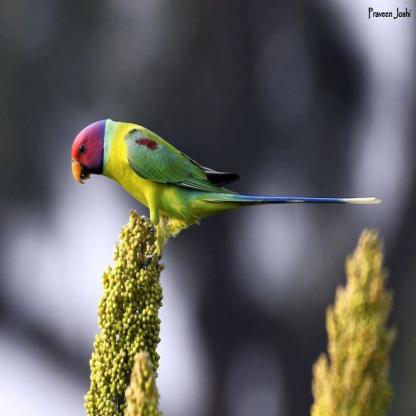Burung: (70, 118, 381, 254)
